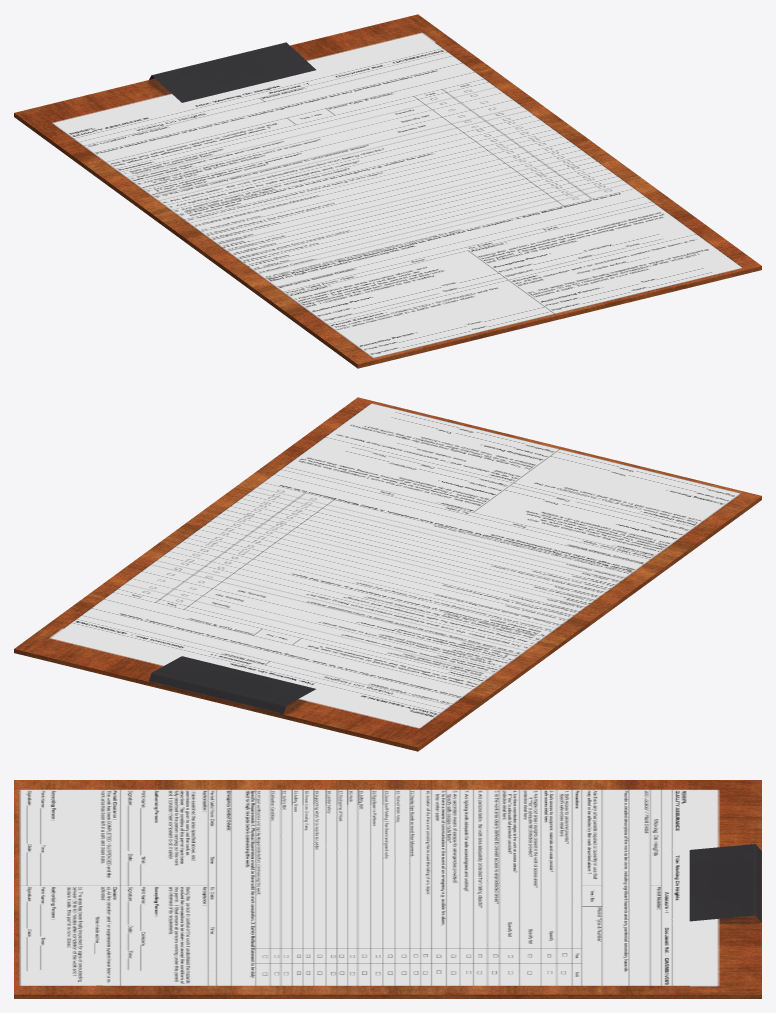
Rendered from Work permit_02.fbx.
3 views of the same model, one above another, from view 1: azimuth 30°, elevation 25°; view 2: azimuth 150°, elevation 25°; view 3: azimuth 270°, elevation 25° (orthographic). The views are drawn at different scales.
Parts seen in each view (by area): view 1: Work Permit; view 2: Work Permit; view 3: Work Permit.
Part boxes in pixels (x1,y1,x2,y2): Work Permit: (14, 14, 761, 368); Work Permit: (14, 397, 761, 751); Work Permit: (14, 780, 761, 998).
Size of the model in its own units: 24.13 by 0.6303 by 35.56.
1 material, 1 textured.
